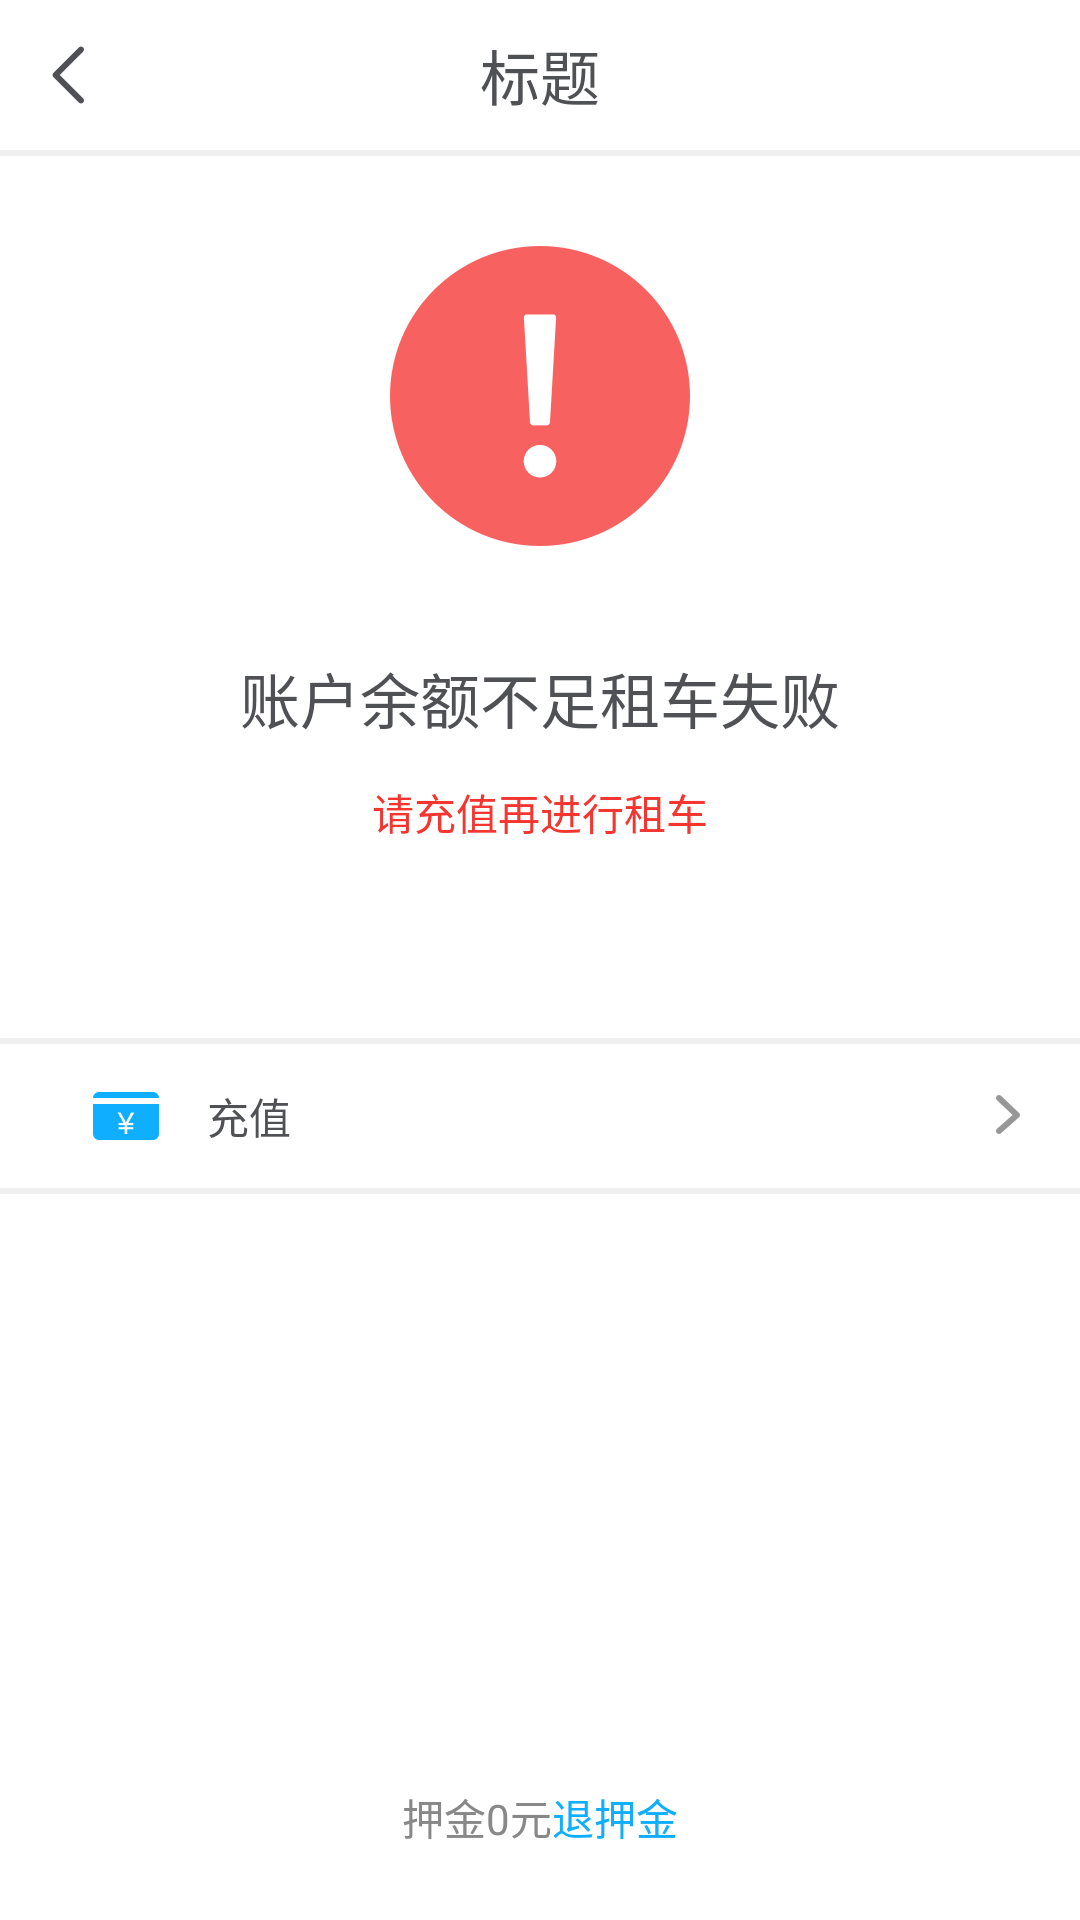

Named icons in this screenshot (1080 x 1920) and their bounding boxes, (x1, y1, x2, y2):
back: (52, 46, 84, 104)
into: (996, 1095, 1020, 1134)
wallet: (93, 1092, 159, 1140)
warn: (390, 246, 690, 546)
